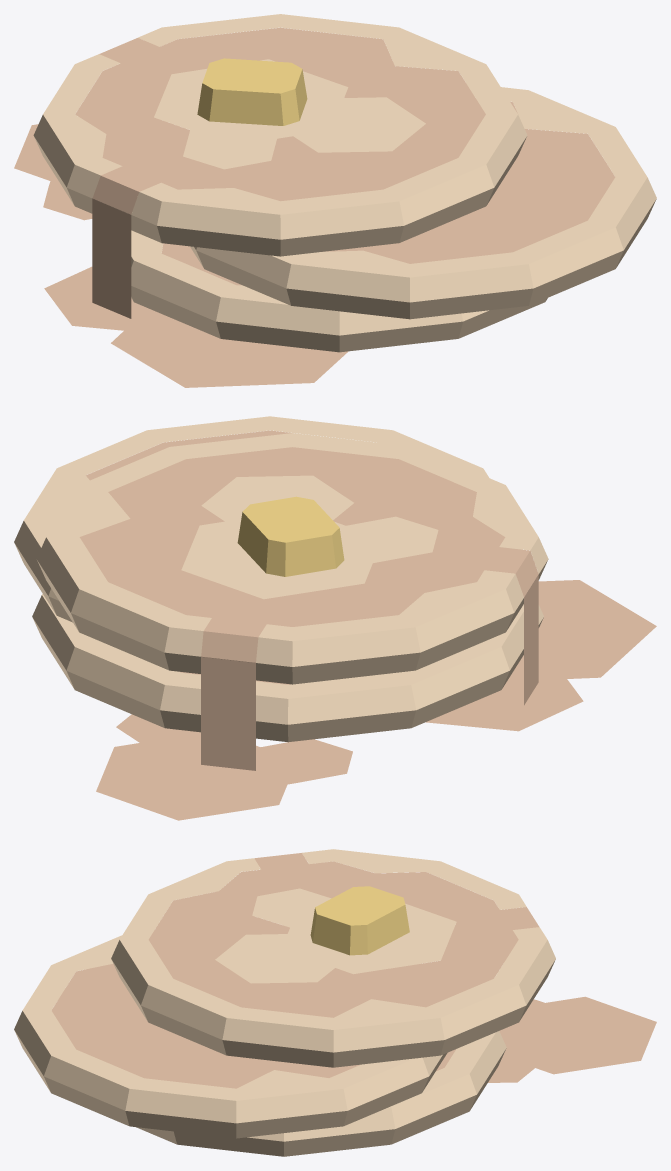
File: pancakes.glb
3 views of the same model, one above another, from view 1: azimuth 30°, elevation 25°; view 2: azimuth 150°, elevation 25°; view 3: azimuth 270°, elevation 25° (orthographic). The views are drawn at different scales.
Visible parts, largest first — view 1: pancake (×3), Mesh pancakes, butter; view 2: pancake (×3), Mesh pancakes, butter; view 3: pancake (×3), Mesh pancakes, butter.
Part boxes in pixels (bbox=[...]): pancake (×3): bbox=[33, 14, 656, 352]; Mesh pancakes: bbox=[14, 124, 348, 387]; butter: bbox=[197, 58, 307, 125]; pancake (×3): bbox=[14, 416, 548, 770]; Mesh pancakes: bbox=[96, 580, 656, 820]; butter: bbox=[237, 496, 344, 576]; pancake (×3): bbox=[14, 849, 555, 1156]; Mesh pancakes: bbox=[60, 965, 656, 1082]; butter: bbox=[310, 886, 409, 955].
Size of the model in its own units: 0.4355 by 0.1216 by 0.5039.
